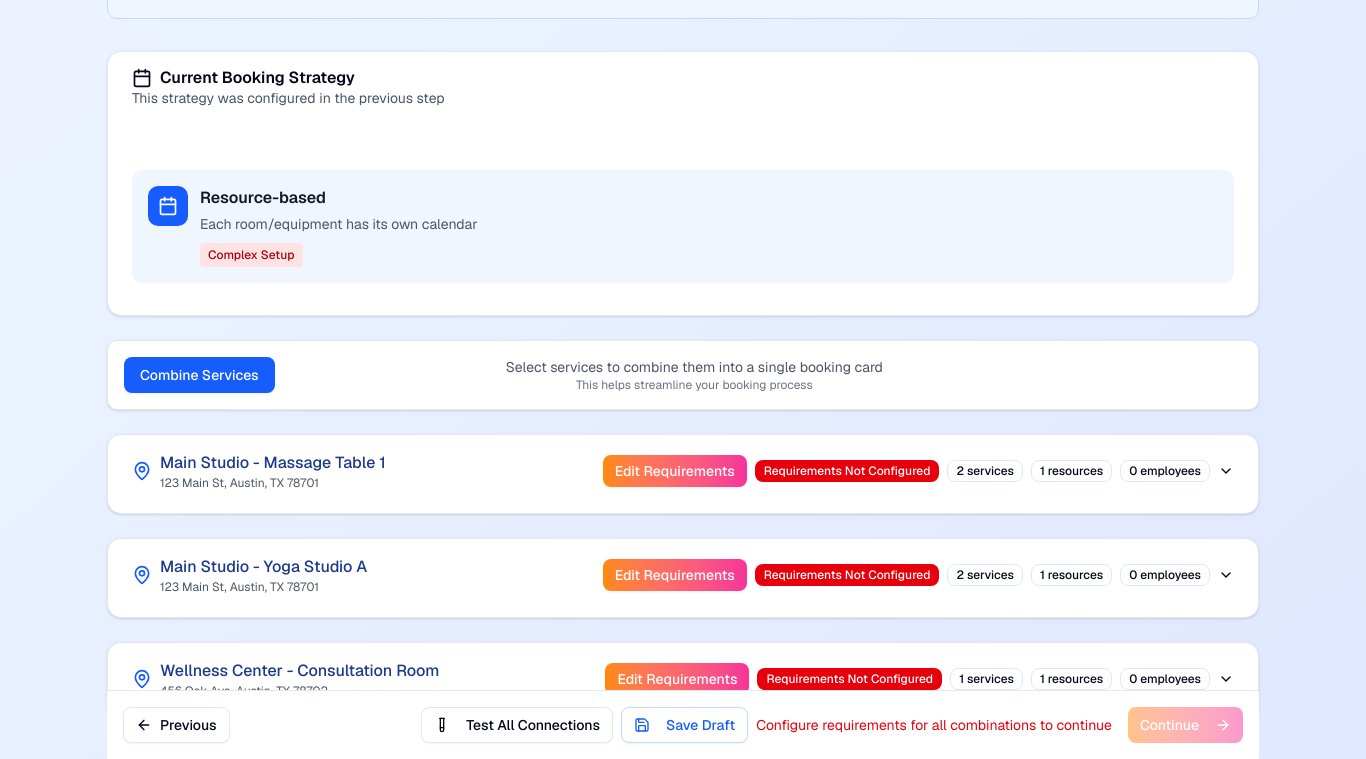
Test: CalendarIntegrationPage - Resource-Based Strategy › should handle resource-based combo card selection for combining
(page scrolled)
# Enable combining mode
Click the button with test id "combine-services-button" at (199, 375), box [124,357,275,393]
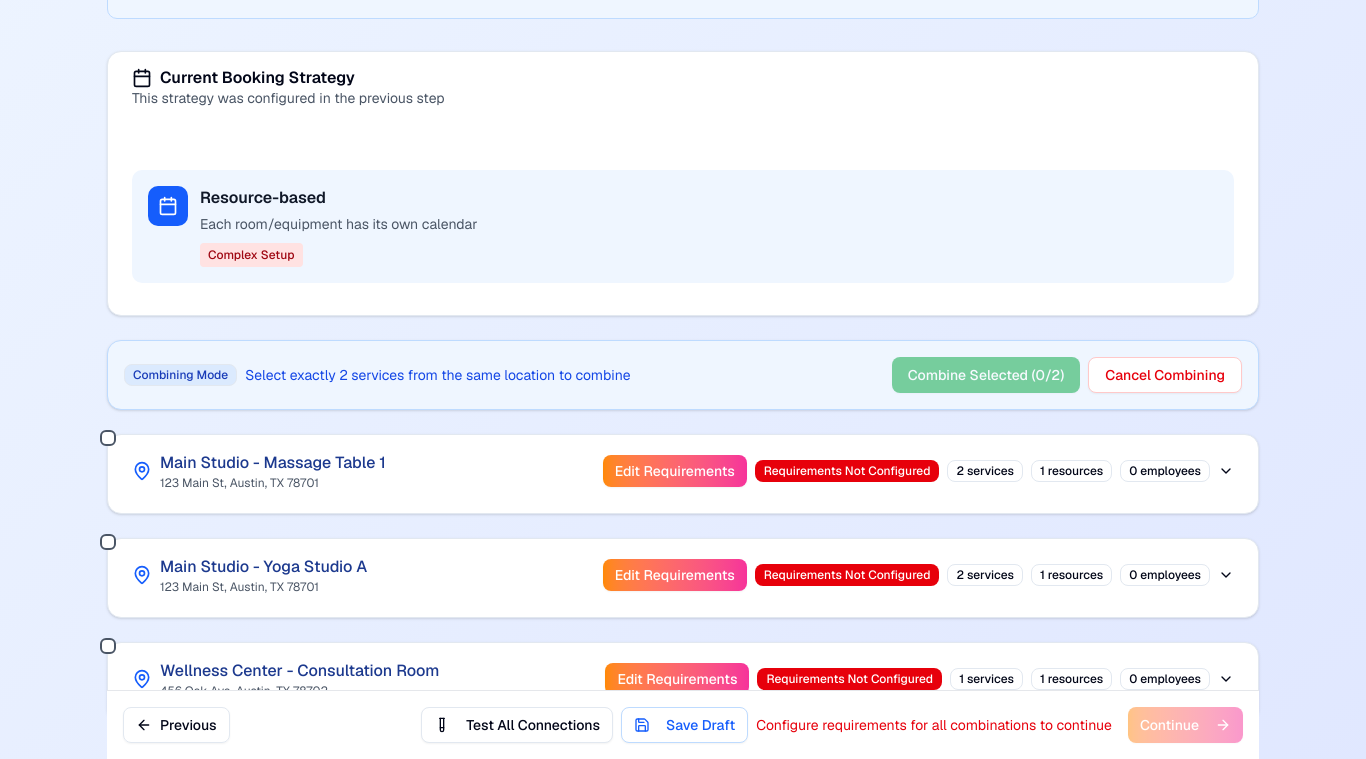
Expected: the button "Cancel Combining" is shown, [1088,357,1242,393]
